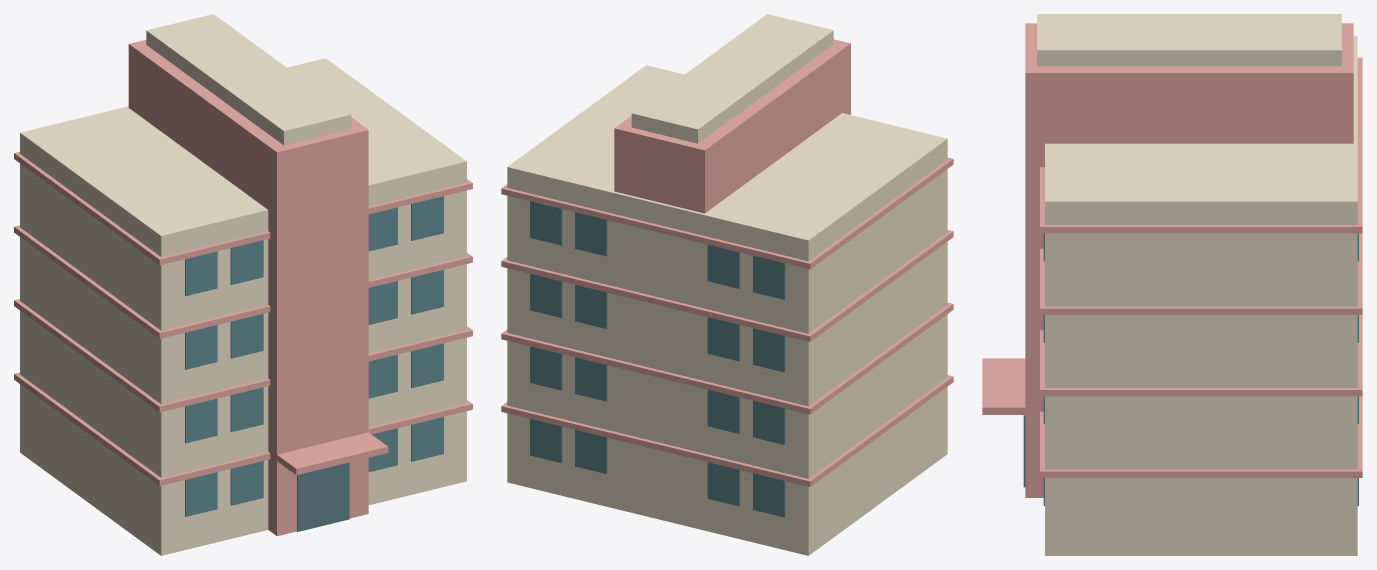
Rendered from art_deco_building.glb.
3 renders of one model, left to right at view 1: azimuth 30°, elevation 25°; view 2: azimuth 150°, elevation 25°; view 3: azimuth 270°, elevation 25°, orthographic. The views are drawn at different scales.
Visible parts, largest first — view 1: main, central_tower, window (×16), belt (×4), roof_step, door, canopy; view 2: main, window_back (×16), central_tower, belt (×4), roof_step; view 3: main, central_tower, roof_step, belt (×4), canopy.
Boxes of the visible parts, box(x1,y1,x2,y2) form: main: box(20, 58, 466, 555); central_tower: box(128, 40, 368, 536); window (×16): box(185, 196, 443, 516); belt (×4): box(14, 151, 472, 485); roof_step: box(146, 14, 351, 145); door: box(297, 462, 349, 531); canopy: box(275, 432, 388, 475); main: box(507, 65, 947, 555); window_back (×16): box(530, 201, 785, 517); central_tower: box(614, 39, 850, 213); belt (×4): box(501, 157, 953, 486); roof_step: box(631, 14, 833, 143); main: box(1045, 36, 1357, 555); central_tower: box(1025, 23, 1353, 497); roof_step: box(1037, 14, 1341, 66); belt (×4): box(1040, 57, 1362, 477); canopy: box(982, 358, 1029, 414).
Bounding box in the file's own units: 10.25 × 12.45 × 9.72.
